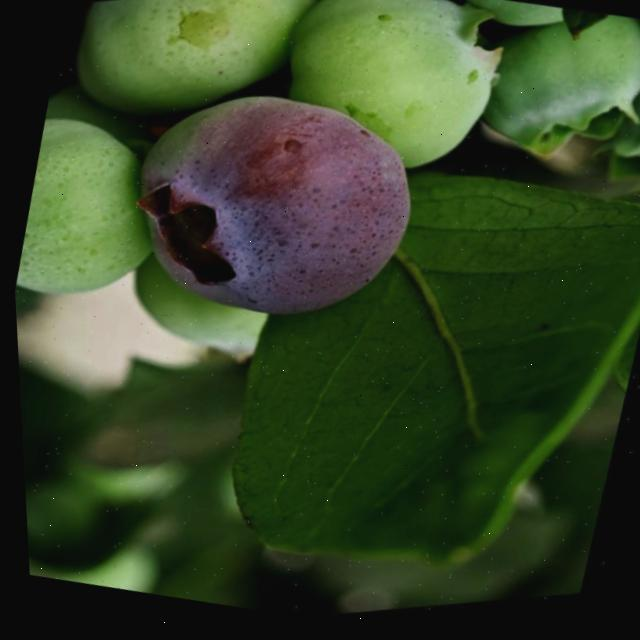Semi-RipeBlueBerry: (80, 26, 468, 390)
UnripeBlueBerry: (4, 87, 193, 331)
